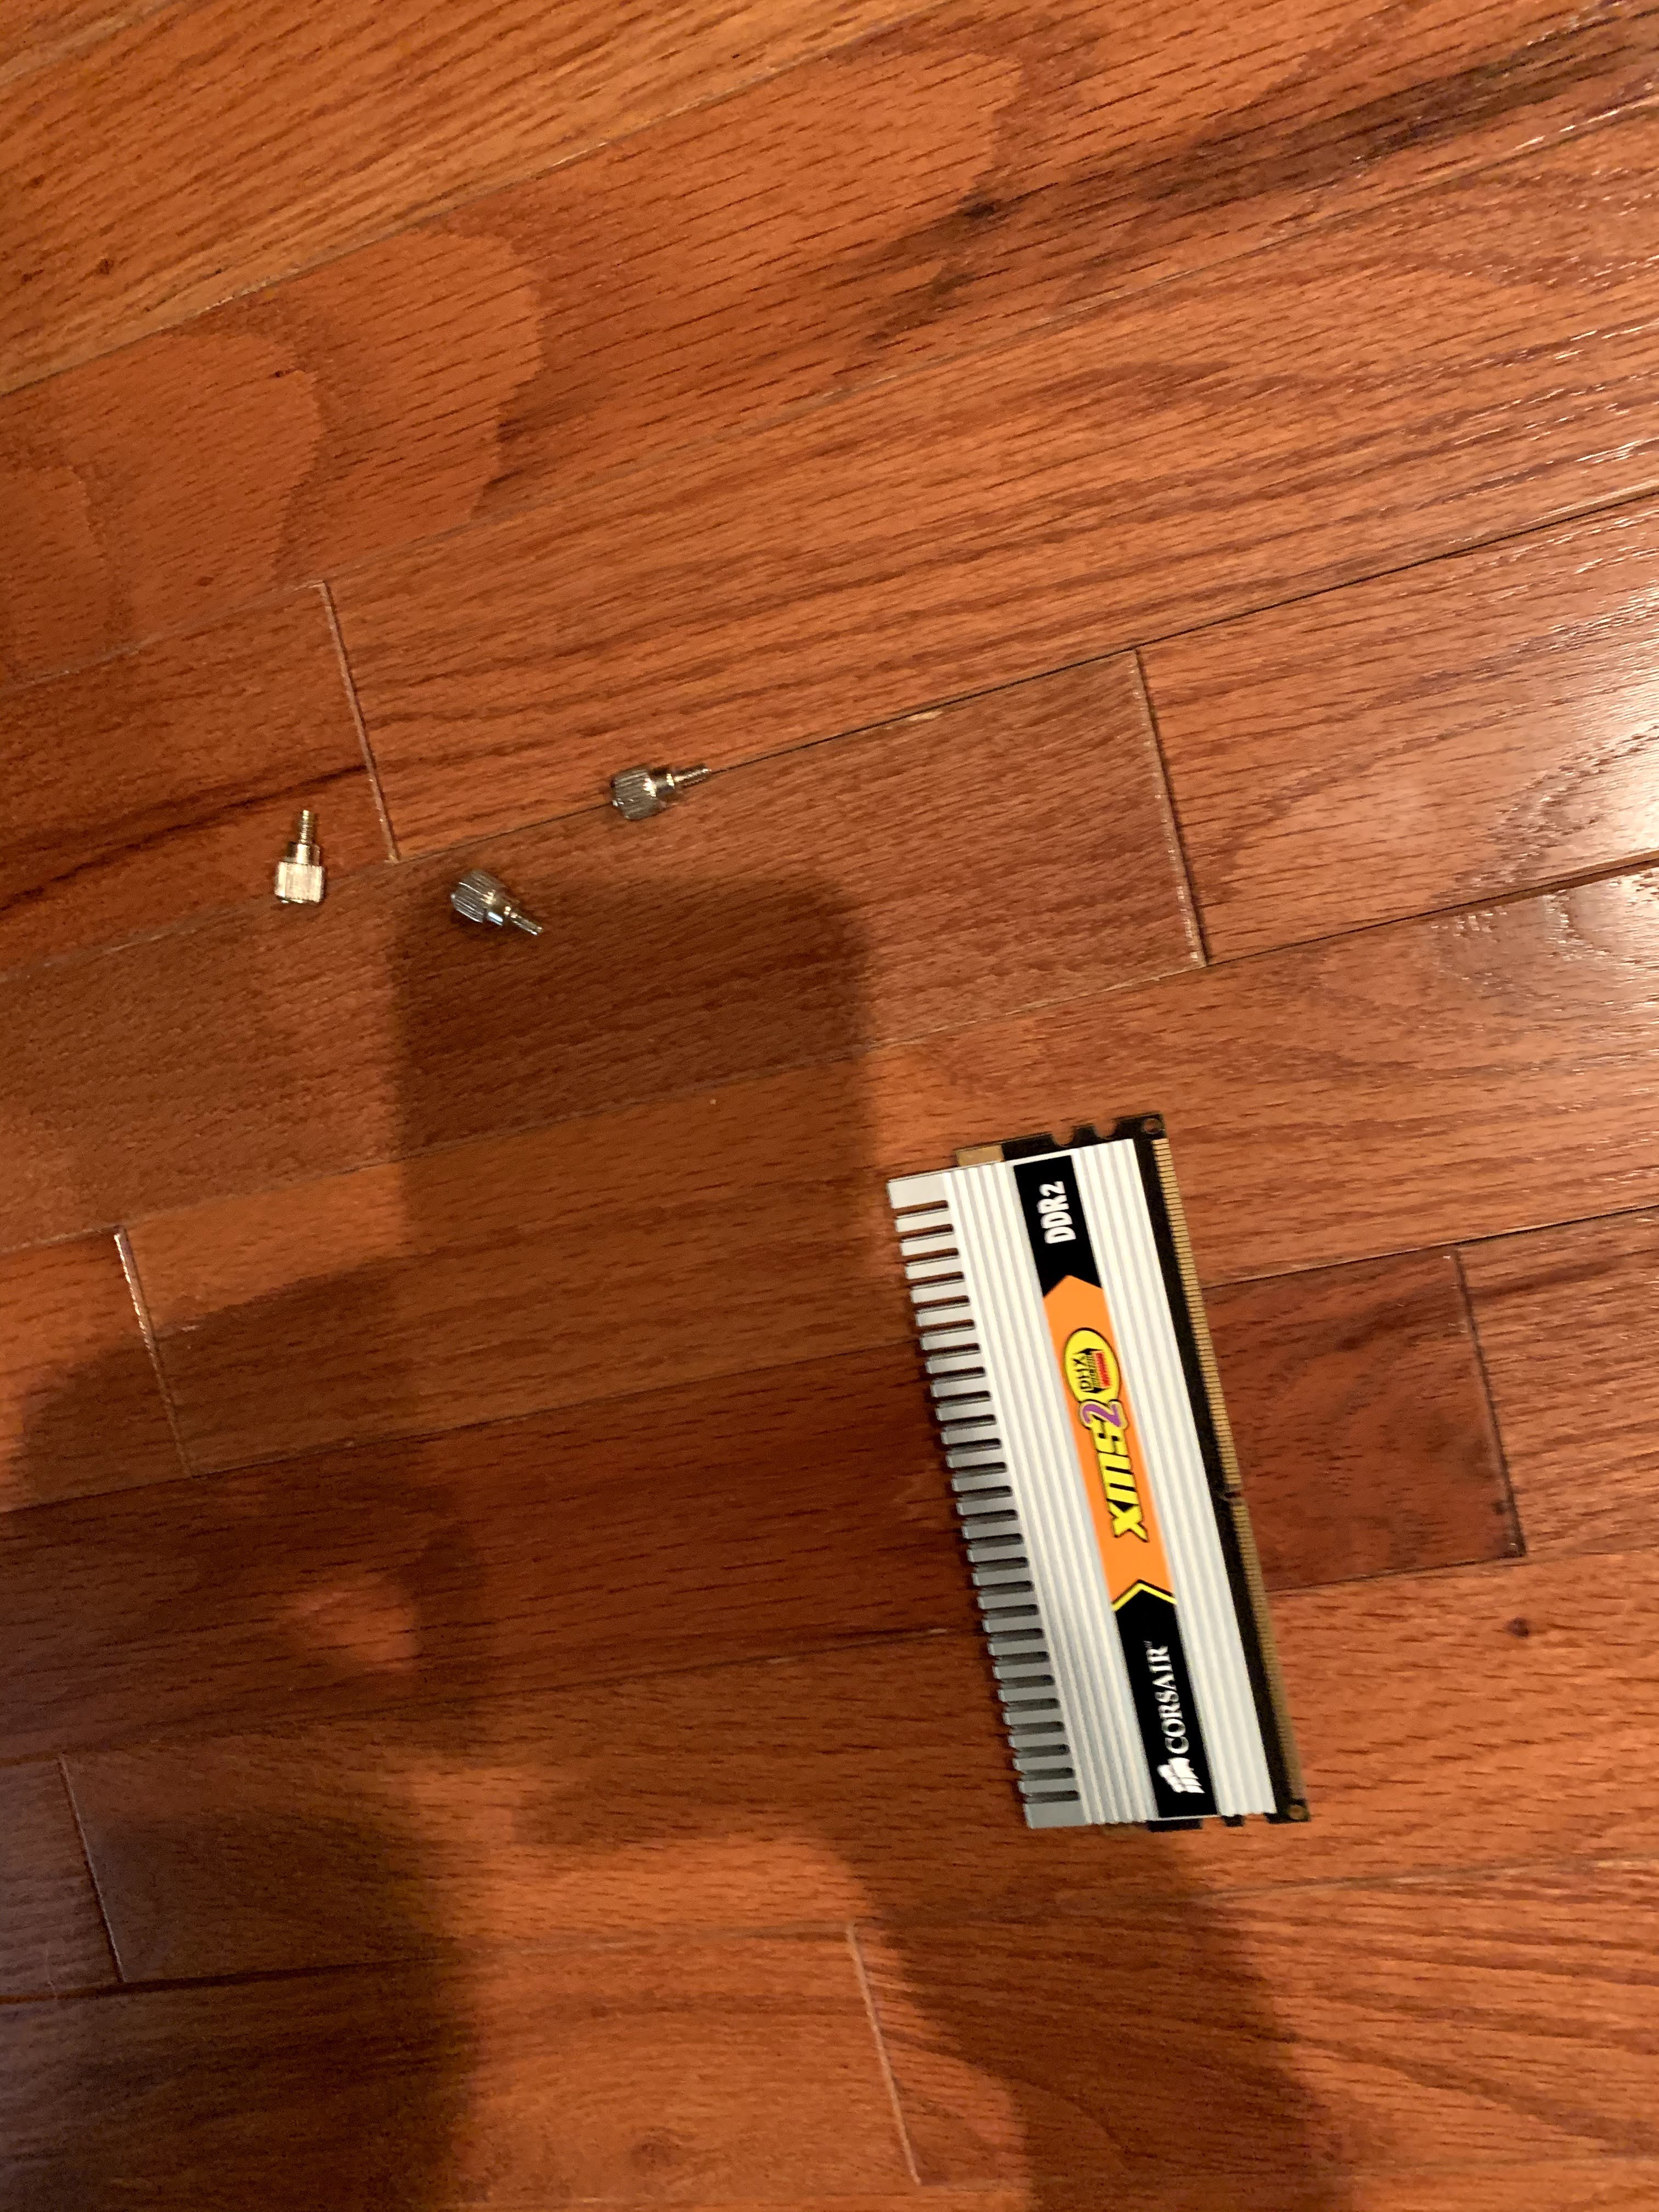Space-debris-medium: (842, 1096, 1368, 1850)
Space-debris-small: (418, 833, 554, 972), (237, 789, 350, 927), (589, 738, 723, 846)
